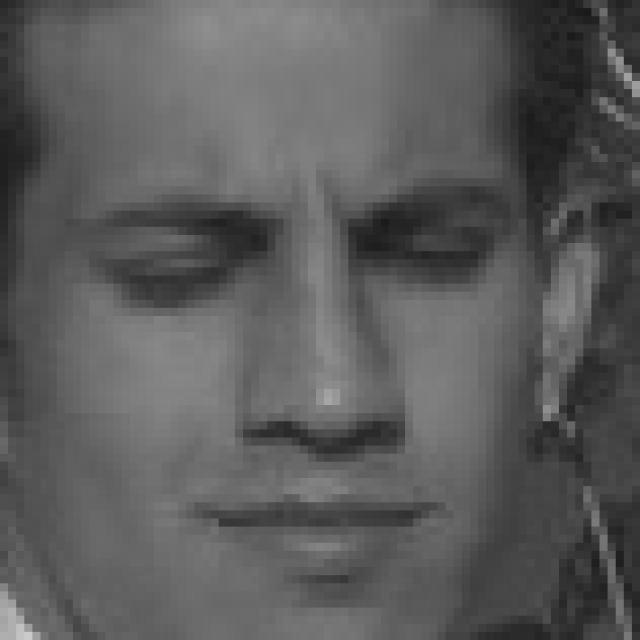real: (56, 8, 524, 608), (76, 212, 522, 315)
